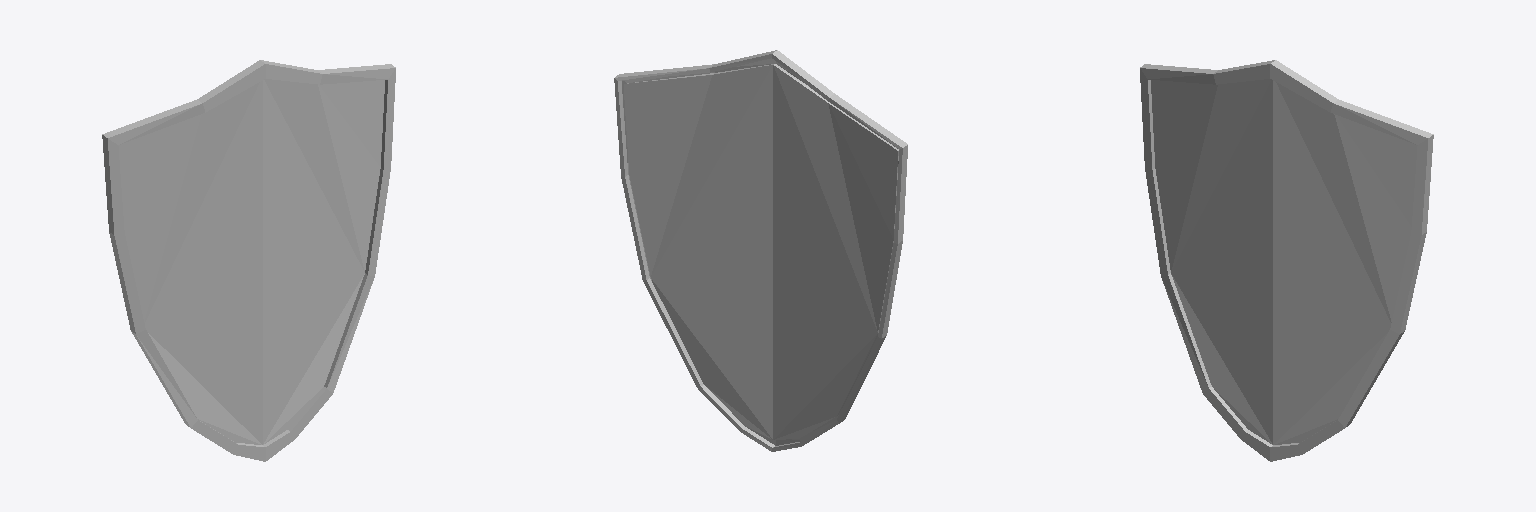
The model's file is sheildModel.obj.
3 renders of one model, left to right at view 1: azimuth 30°, elevation 25°; view 2: azimuth 150°, elevation 25°; view 3: azimuth 330°, elevation 25°, orthographic.
Parts seen in each view (by area): view 1: Plane; view 2: Plane; view 3: Plane.
Part boxes in pixels (bbox=[...]): Plane: bbox=[102, 60, 395, 461]; Plane: bbox=[614, 50, 907, 451]; Plane: bbox=[1140, 60, 1433, 461].
Size of the model in its own units: 4.45 by 5.86 by 0.5071.